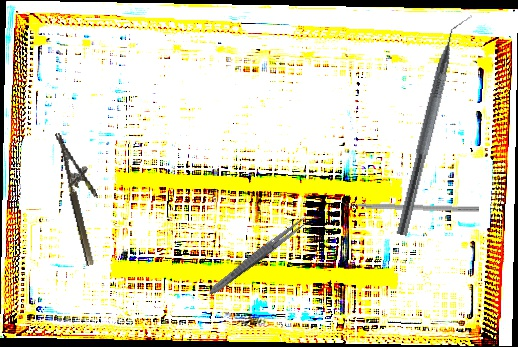Chopper: (395, 9, 475, 240), (338, 194, 480, 213)
Dressing Forceps: (205, 213, 311, 299)
Needle Holder: (55, 127, 112, 267)
